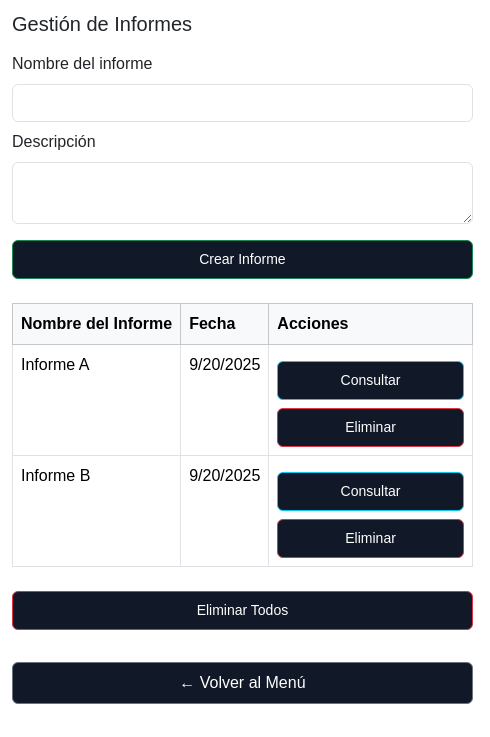
Test case: GestionInformes › muestra error si falla eliminar todos los informes
Expected: the text "Informe A" is shown, x1=12 y1=344 x2=181 y2=456
What coordinates should you click on to do the following:
click the button "Eliminar Todos"
I would click on:
 (242, 610)
Its box is x1=12 y1=591 x2=473 y2=630.
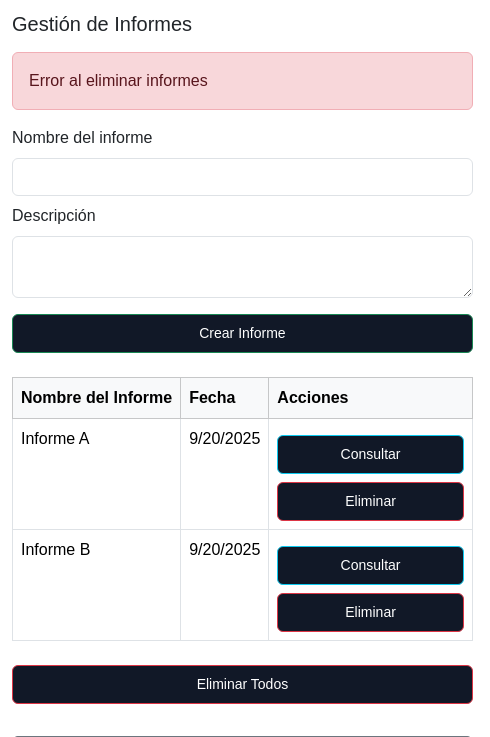
Expected: the text "Error al eliminar informes" is shown, x1=12 y1=52 x2=473 y2=110
